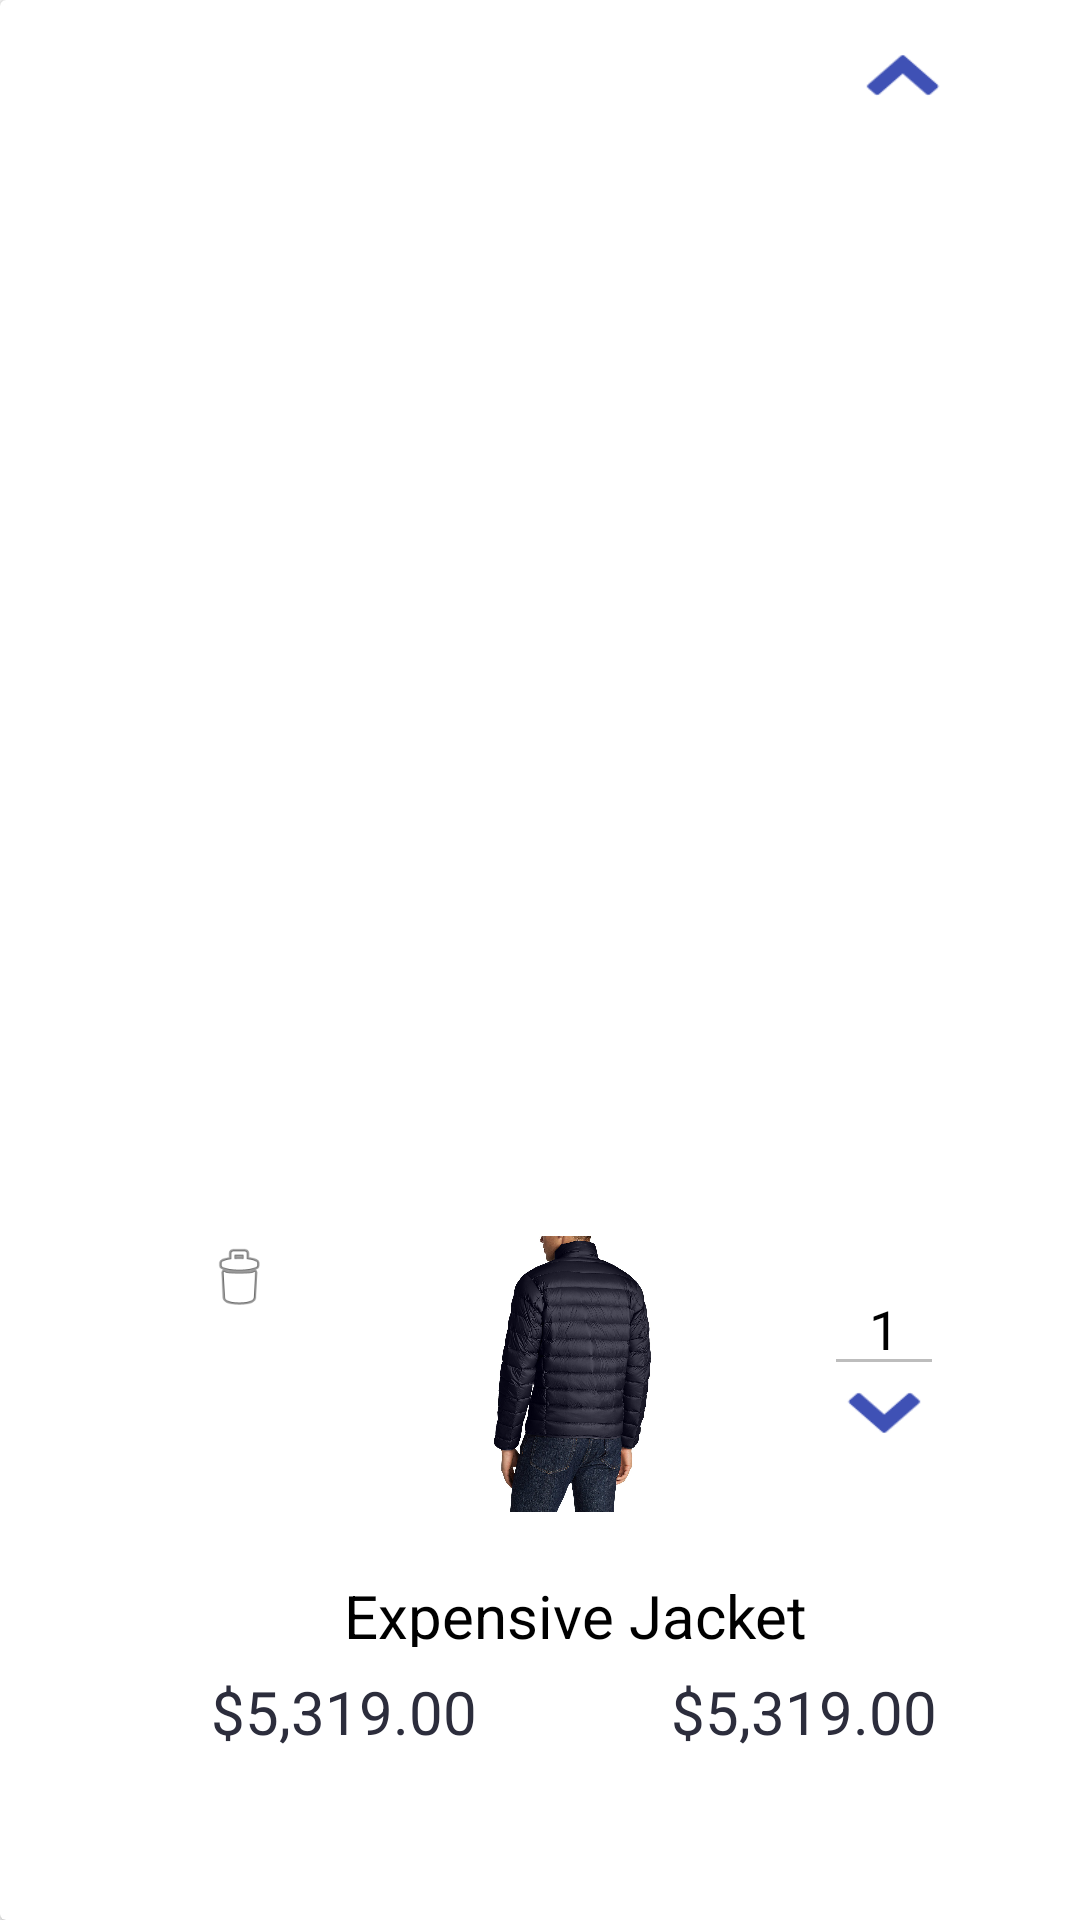

Named icons in this screenshot (1080w x 1920h) and their centers, point (x, y):
delete: point (239, 1277)
